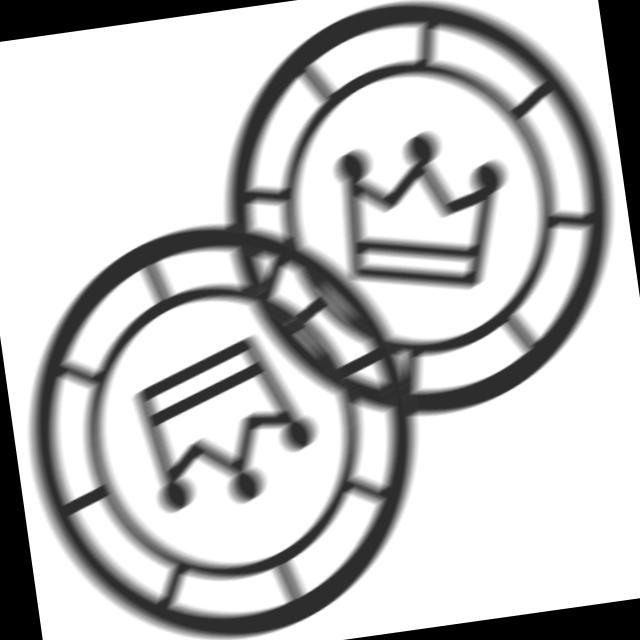coin: (191, 1, 640, 454), (1, 191, 451, 640)
